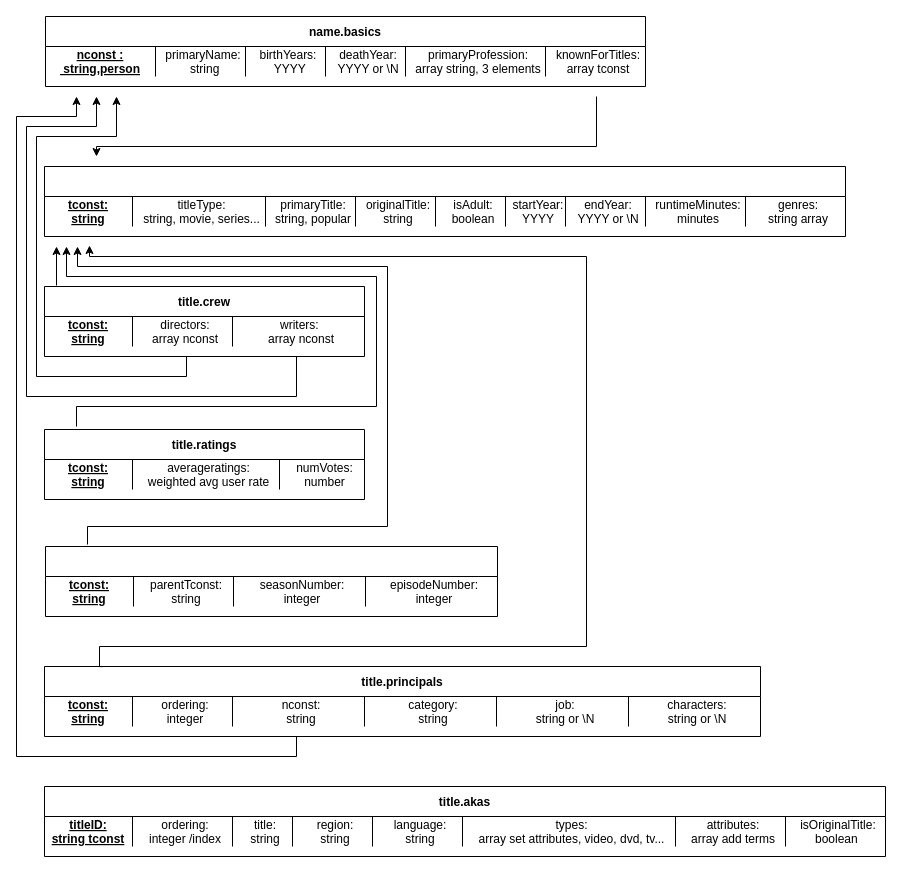
The diagram is 902 pixels wide and 873 high, and some of its shapes have lost their labels. Here are the shapes that lost their labels. From the top down, the box of each, then its label:
(44, 166, 846, 236): title.basics
(44, 546, 498, 616): title.episode
